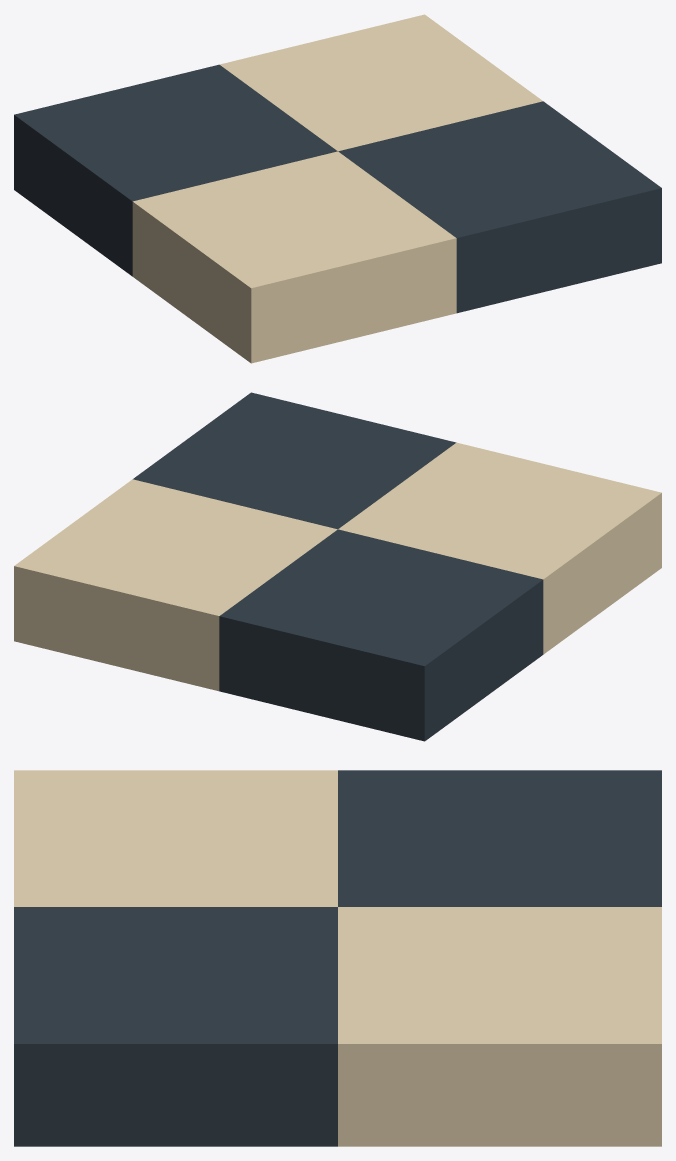
The model's file is Sol.glb.
3 views of the same model, one above another, from view 1: azimuth 30°, elevation 25°; view 2: azimuth 150°, elevation 25°; view 3: azimuth 270°, elevation 25° (orthographic). The views are drawn at different scales.
Visible parts, largest first — view 1: Cube.001; view 2: Cube.001; view 3: Cube.001.
Boxes of the visible parts, x1,y1,x2,y2 form: Cube.001: (14, 14, 661, 363); Cube.001: (14, 392, 661, 741); Cube.001: (14, 770, 661, 1146).
Bounding box in the file's own units: 2 × 0.35 × 2.
